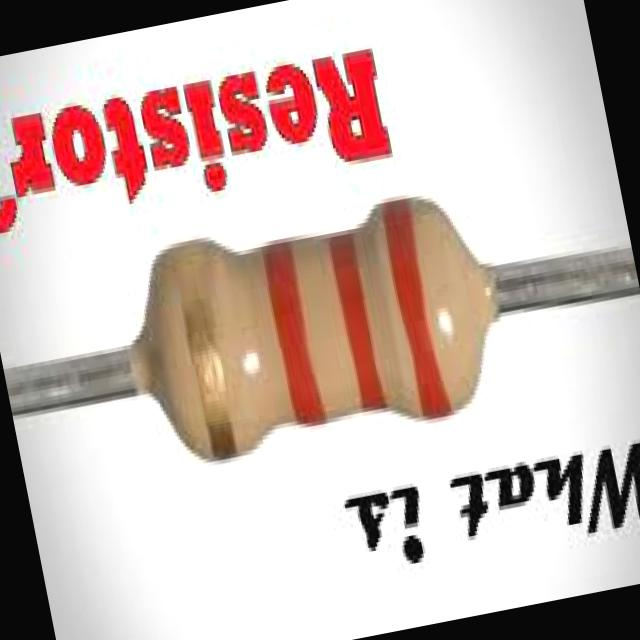Resistor: (135, 201, 500, 461)
gold: (171, 244, 238, 456)
red: (379, 197, 452, 423), (260, 238, 330, 428), (326, 235, 387, 412)
